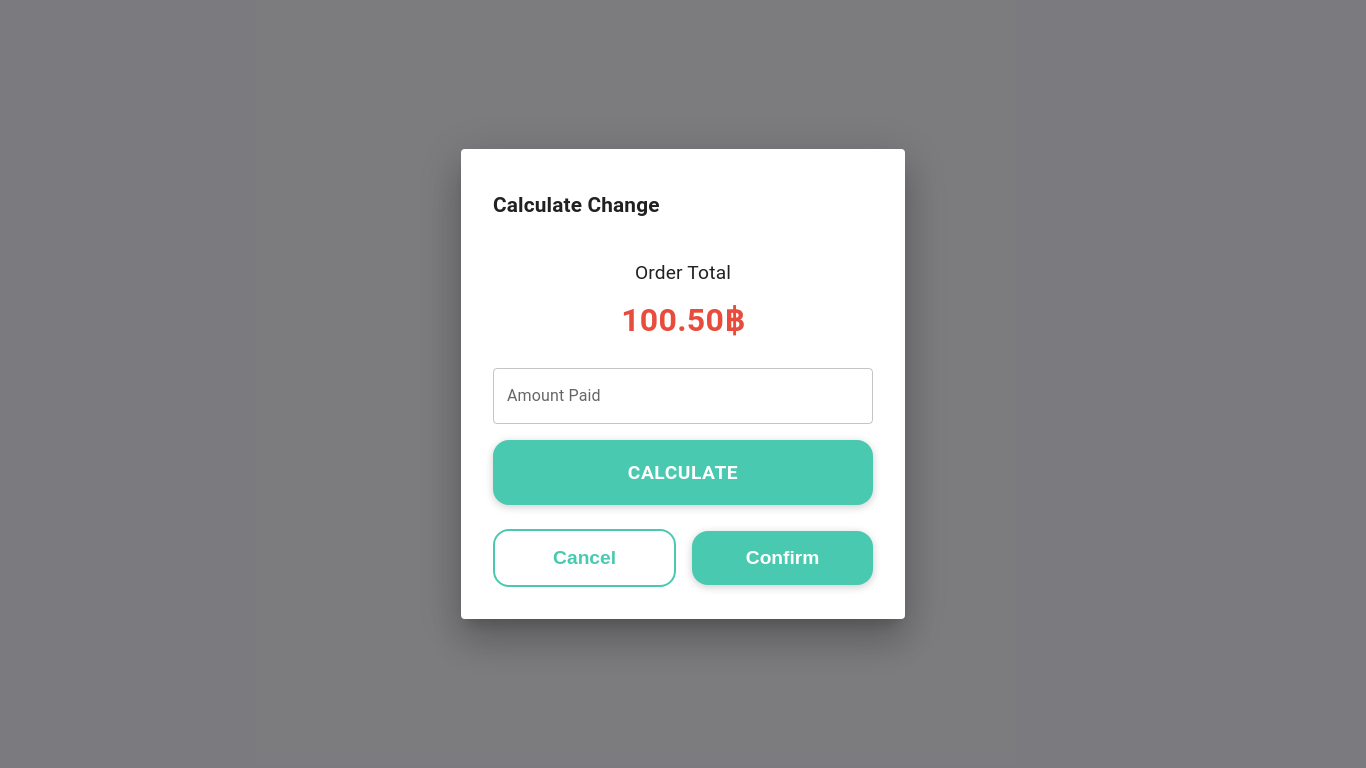
Test case: CalculateChange Component › calculates change correctly when valid amount is entered
Type "200" into the number field labelled "Amount Paid" at (683, 396), box [493,368,873,424]
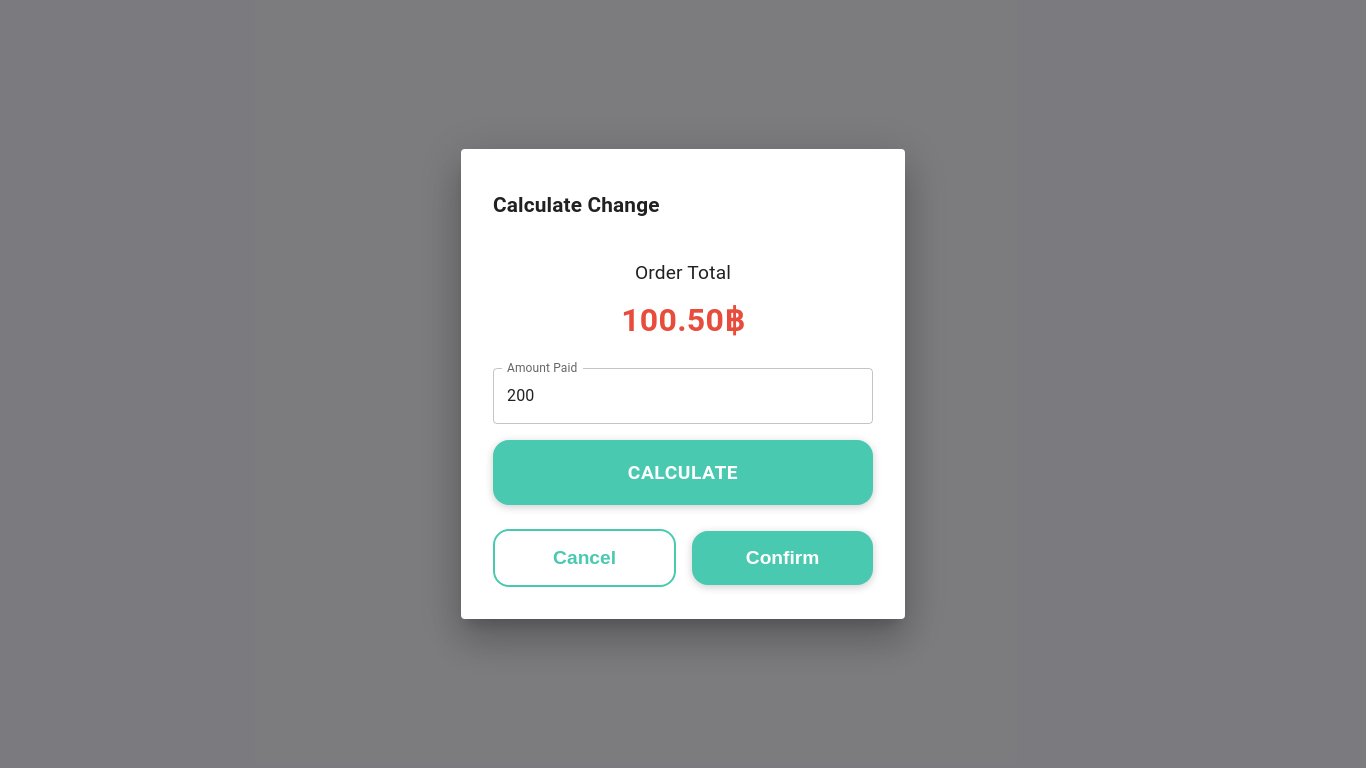
Click the button "Calculate" at (683, 472), box [493,440,873,505]
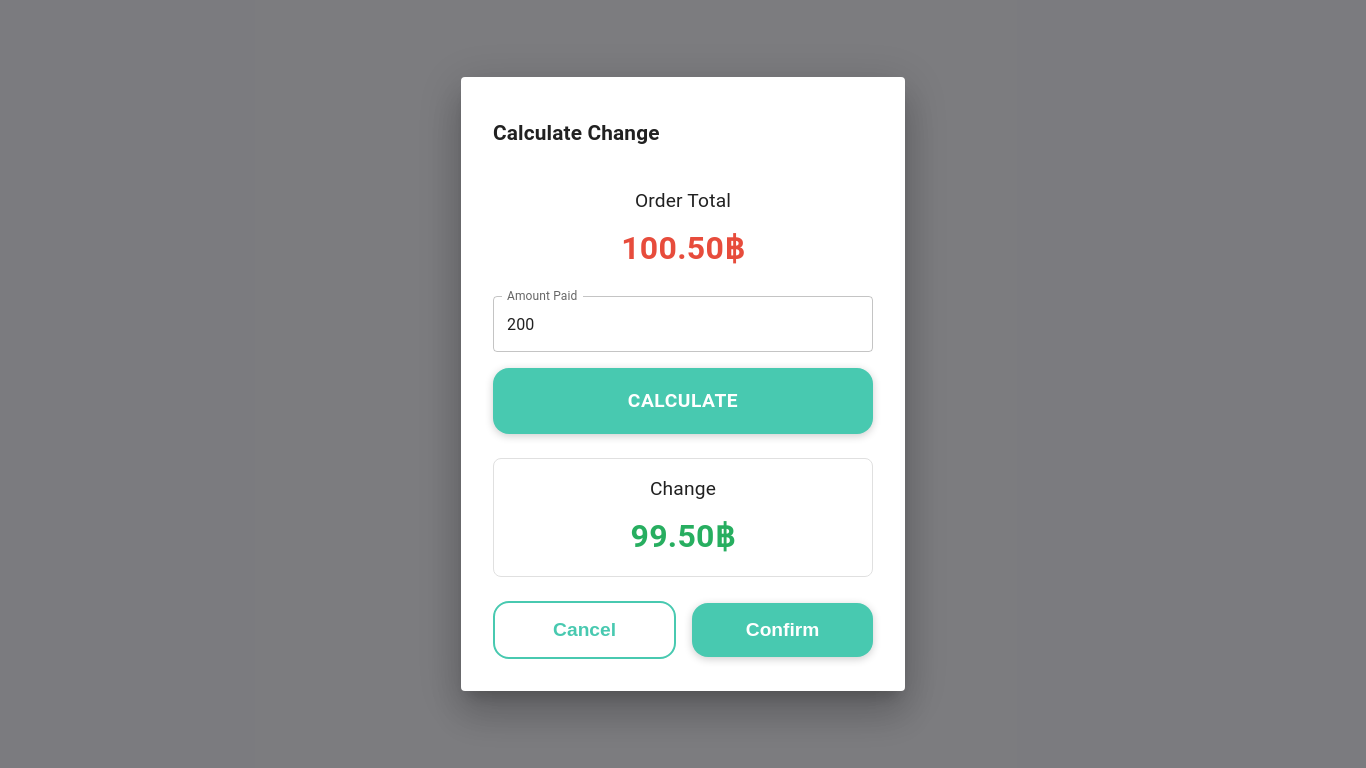
Result: the text "Change" is shown at [650,477,716,500]
Result: the text "99.50฿" is shown at [630,517,735,555]
